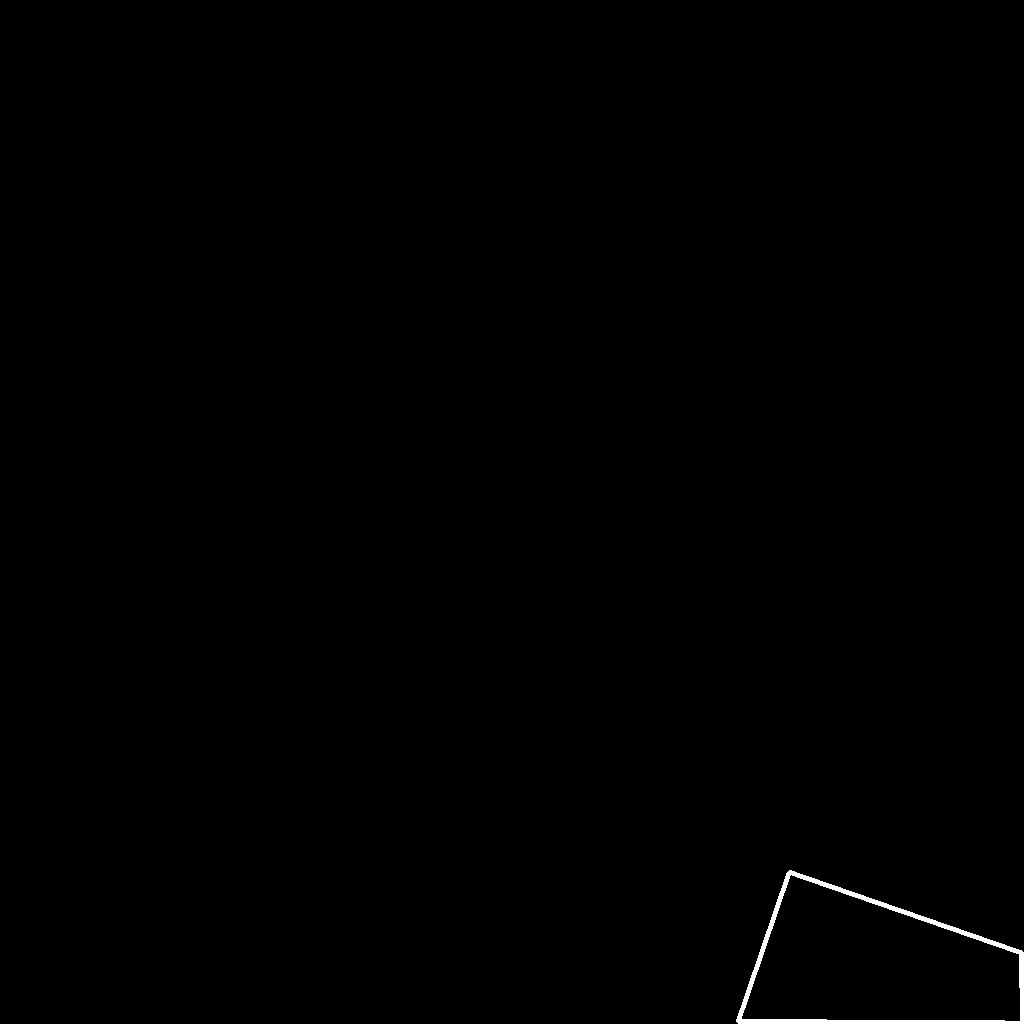building: (738, 872, 1024, 1024)
